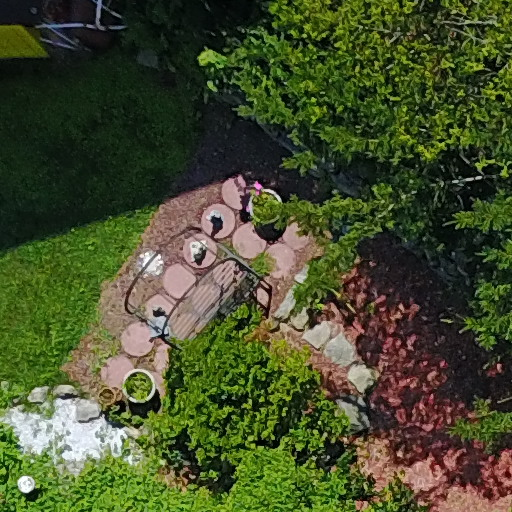container: (15, 466, 42, 503), (202, 207, 227, 228)
flower pot: (242, 183, 290, 237), (123, 365, 154, 412), (95, 386, 116, 412)
